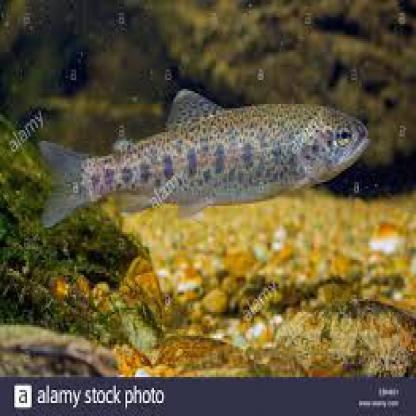fish: (36, 88, 372, 230)
